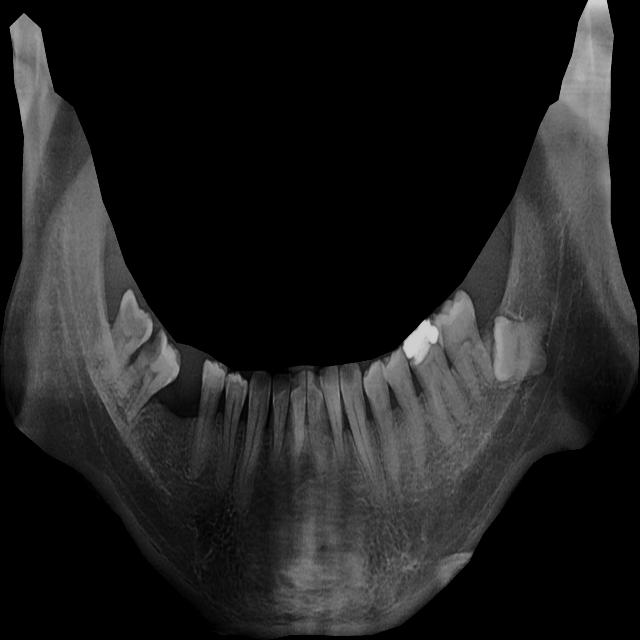mandibula: (0, 0, 640, 640)
